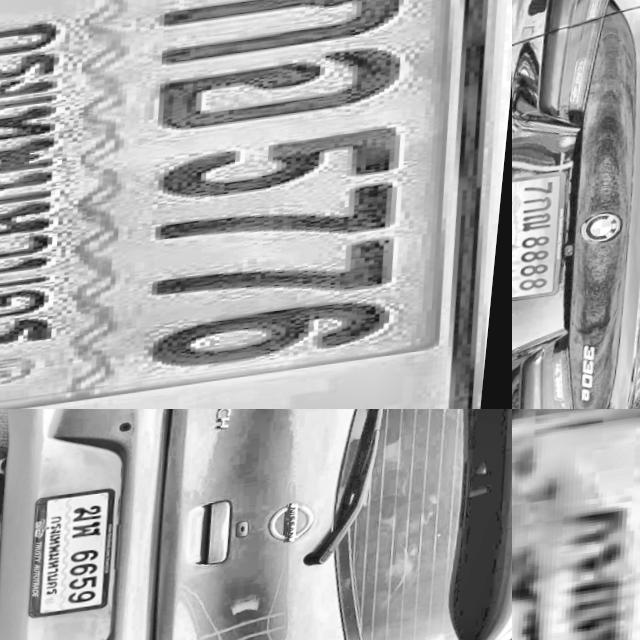license-plate: (0, 0, 512, 409), (512, 409, 640, 640), (29, 488, 126, 621), (512, 175, 580, 312)
